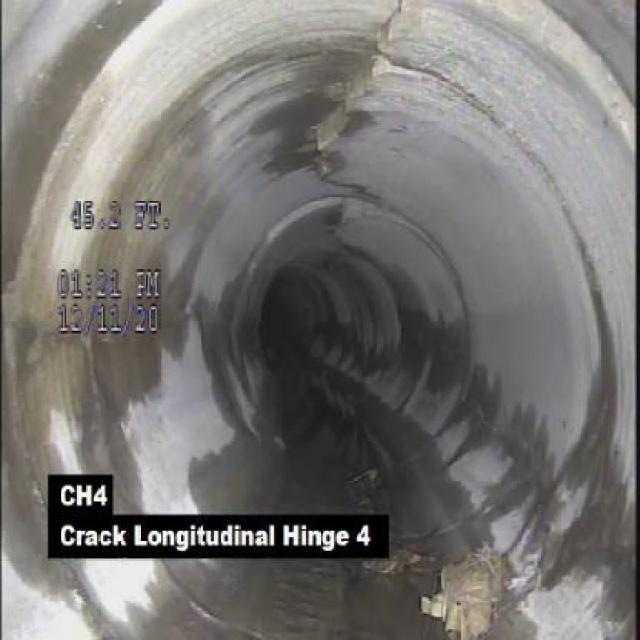Buckling: (304, 3, 408, 192)
